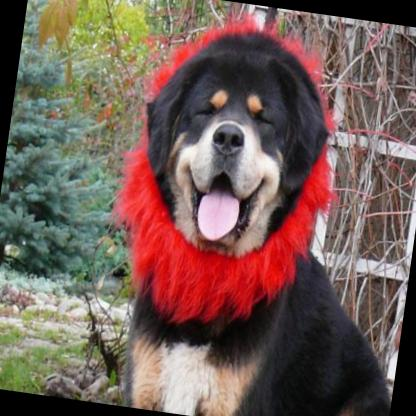Tibetan_mastiff: (83, 0, 416, 416)
